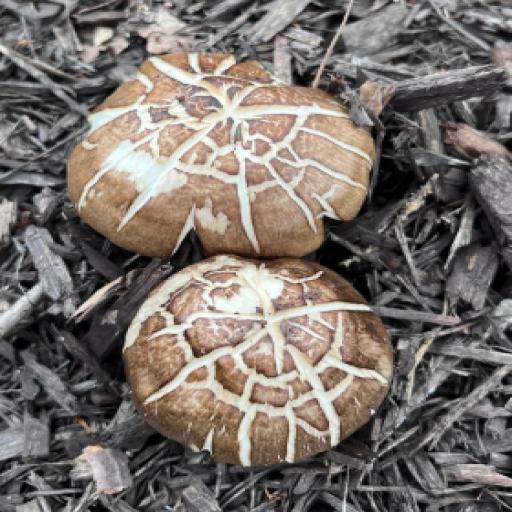Shiitake Mushroom: (123, 247, 395, 463), (77, 52, 369, 252)
